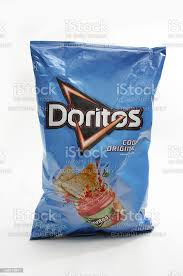Doritos: (26, 35, 153, 250)
